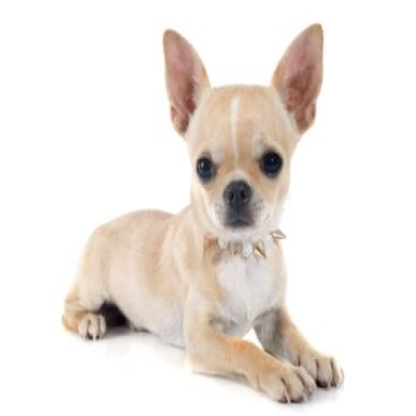chihuahua: (62, 20, 347, 406)
